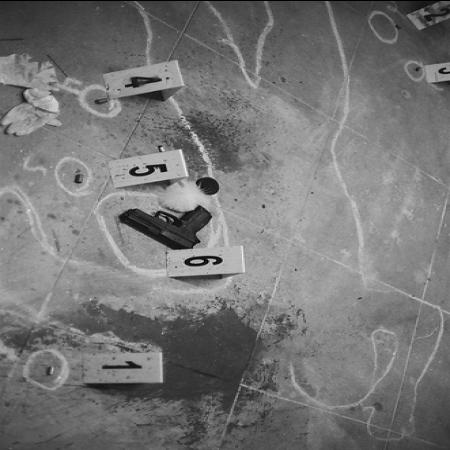Pistol: (116, 202, 218, 248)
